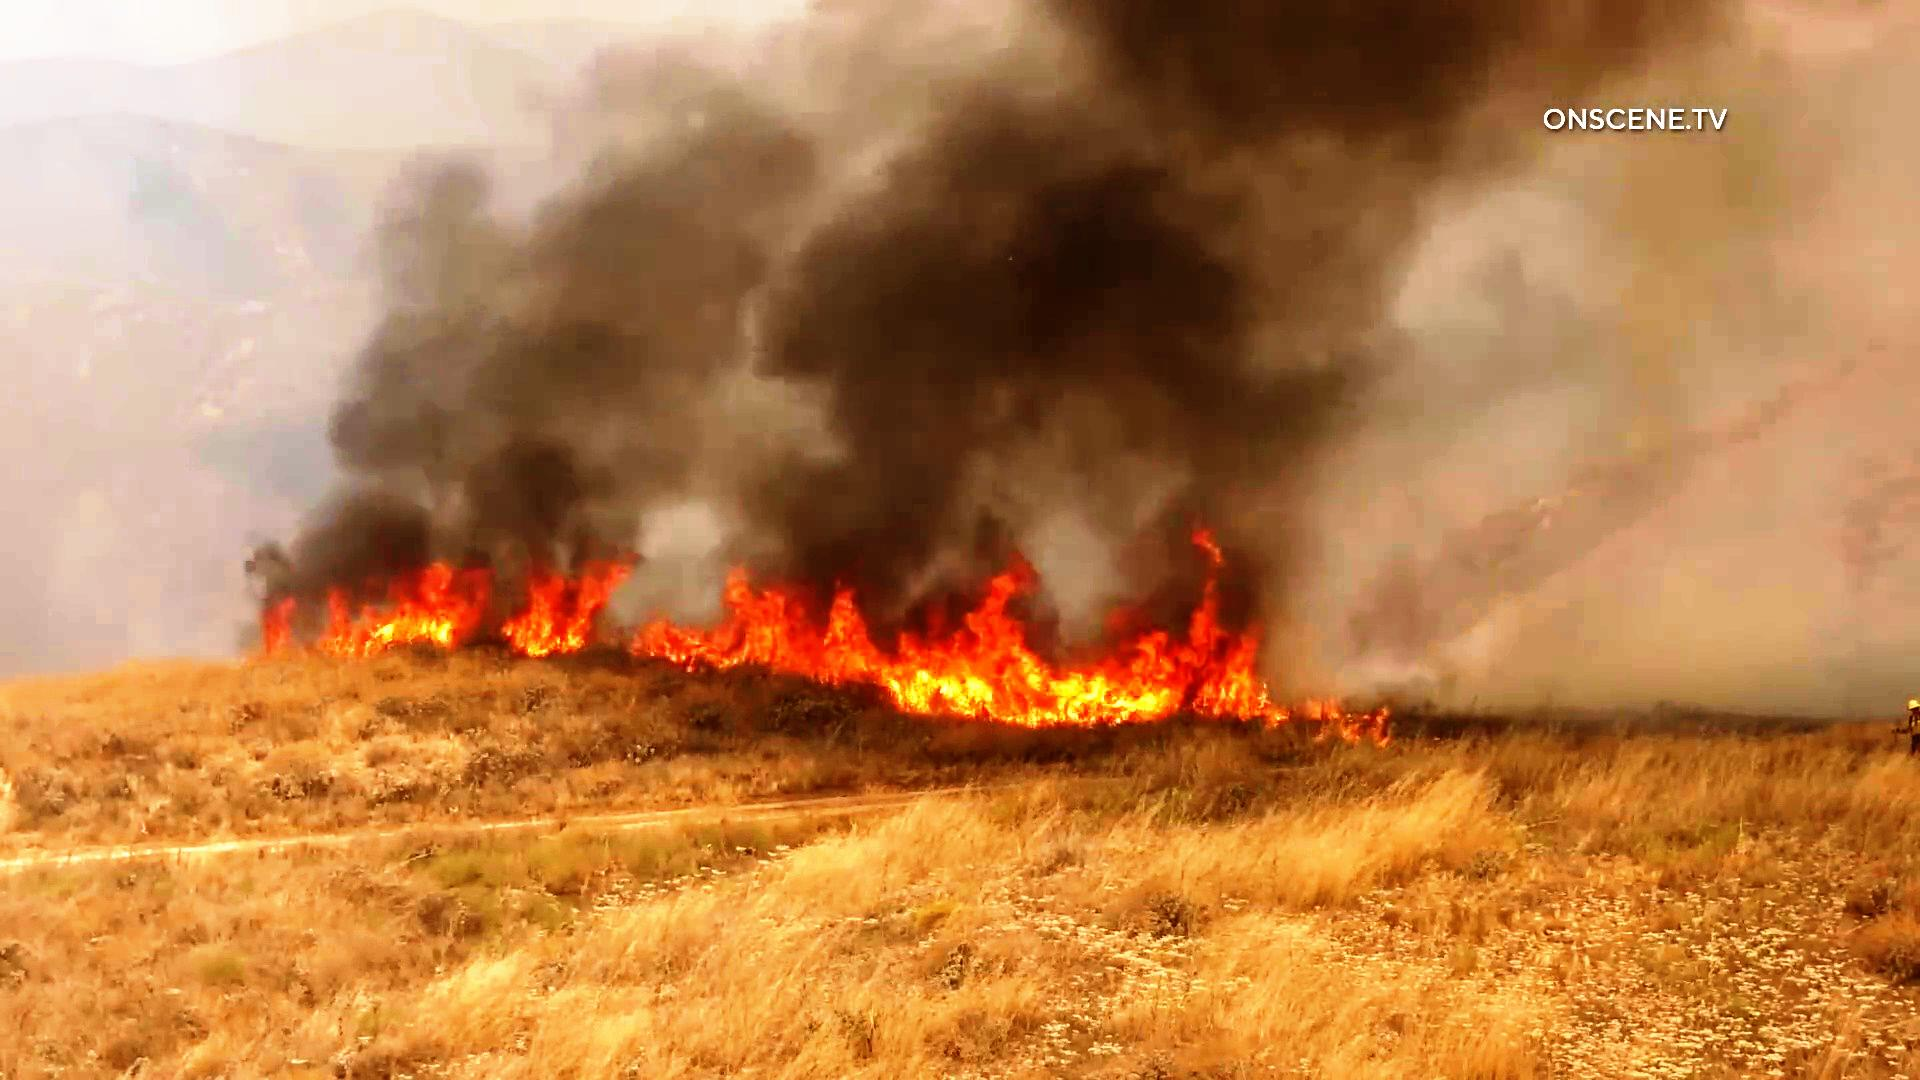fire: (245, 549, 1396, 765)
smoke: (1026, 13, 1540, 553), (345, 105, 663, 556), (750, 63, 1021, 559)
